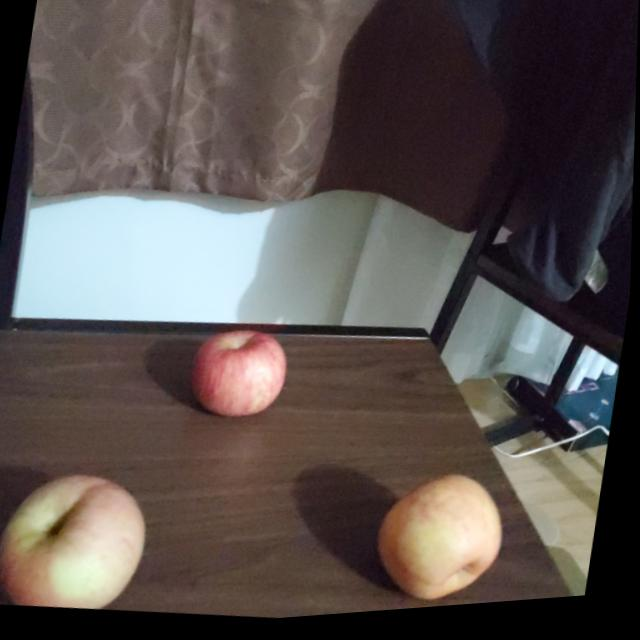apple: (0, 462, 161, 621), (373, 469, 515, 617), (191, 323, 296, 424)
